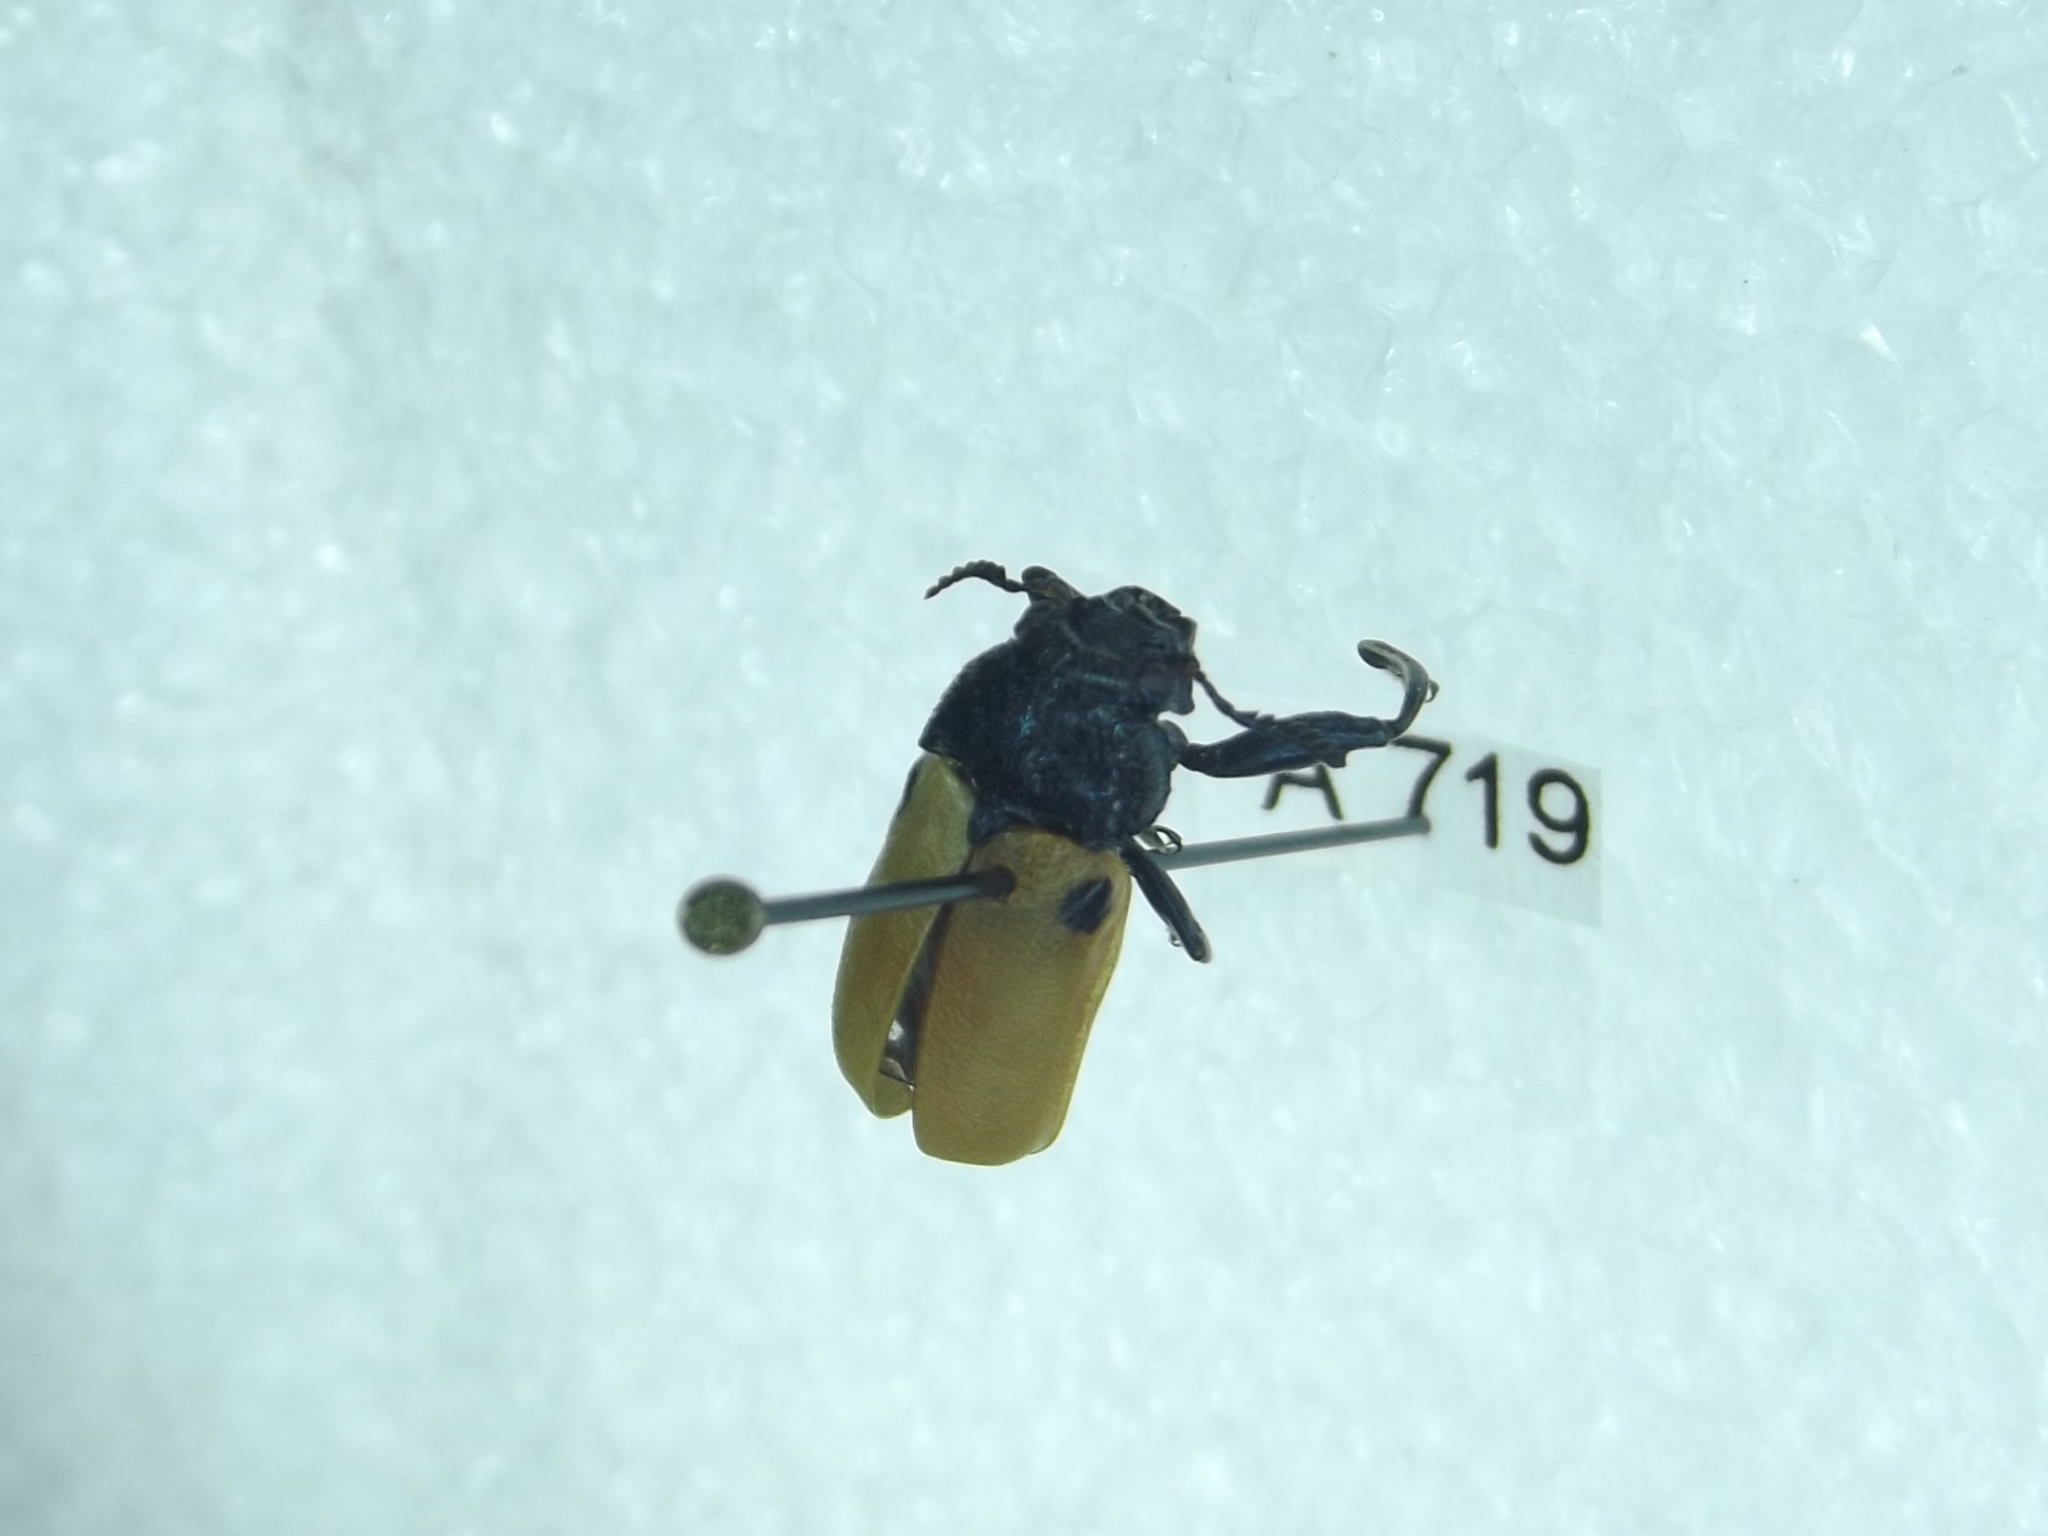Labidostomis_propinqua: (819, 549, 1448, 1176)
